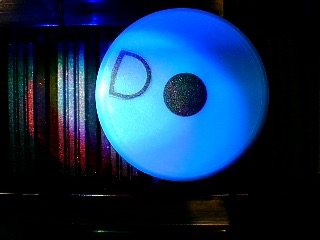BOHOMIPO1: (93, 7, 269, 181)
